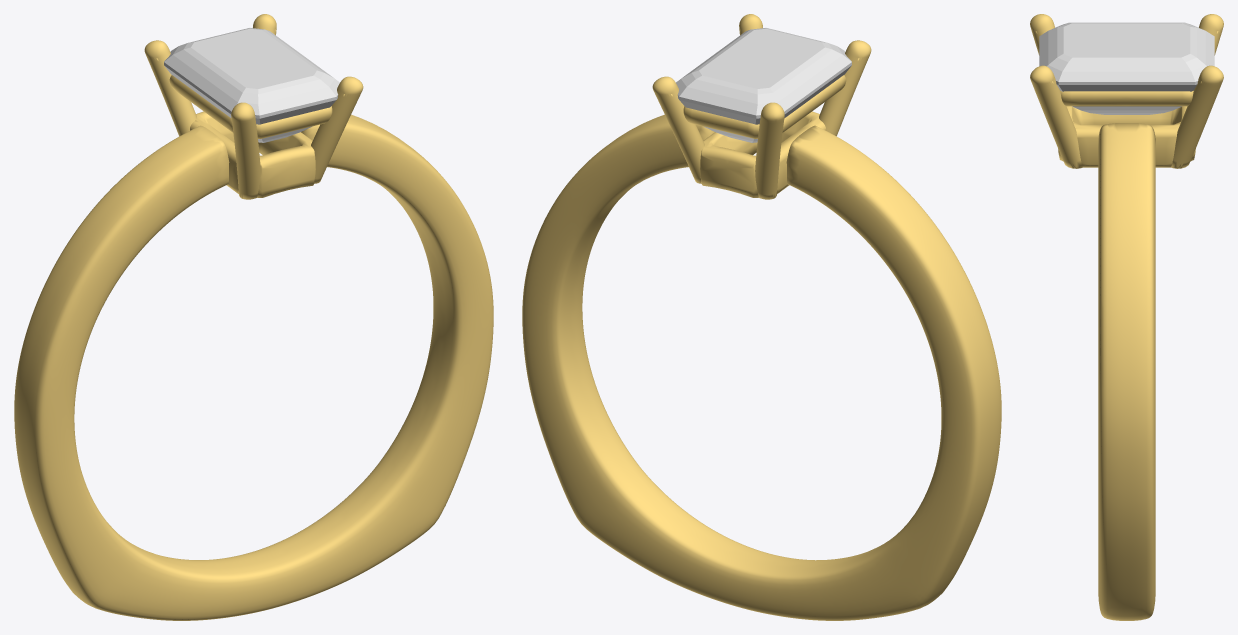
Rendered from diamond-emerald-yellowgold-4prong-europeanshank-solitaire.glb.
The picture shows the model from 3 angles, left to right: view 1: azimuth 30°, elevation 25°; view 2: azimuth 150°, elevation 25°; view 3: azimuth 270°, elevation 25°; orthographic projection.
Parts seen in each view (by area): view 1: metal, stone; view 2: metal, stone; view 3: metal, stone.
Part boxes in pixels (x1=…): metal: x1=14, y1=14, x2=493, y2=620; stone: x1=164, y1=28, x2=339, y2=142; metal: x1=522, y1=14, x2=1001, y2=620; stone: x1=676, y1=28, x2=851, y2=142; metal: x1=1030, y1=14, x2=1223, y2=620; stone: x1=1039, y1=22, x2=1214, y2=114.
Bounding box in the file's own units: 20.1 × 22.75 × 7.4.
